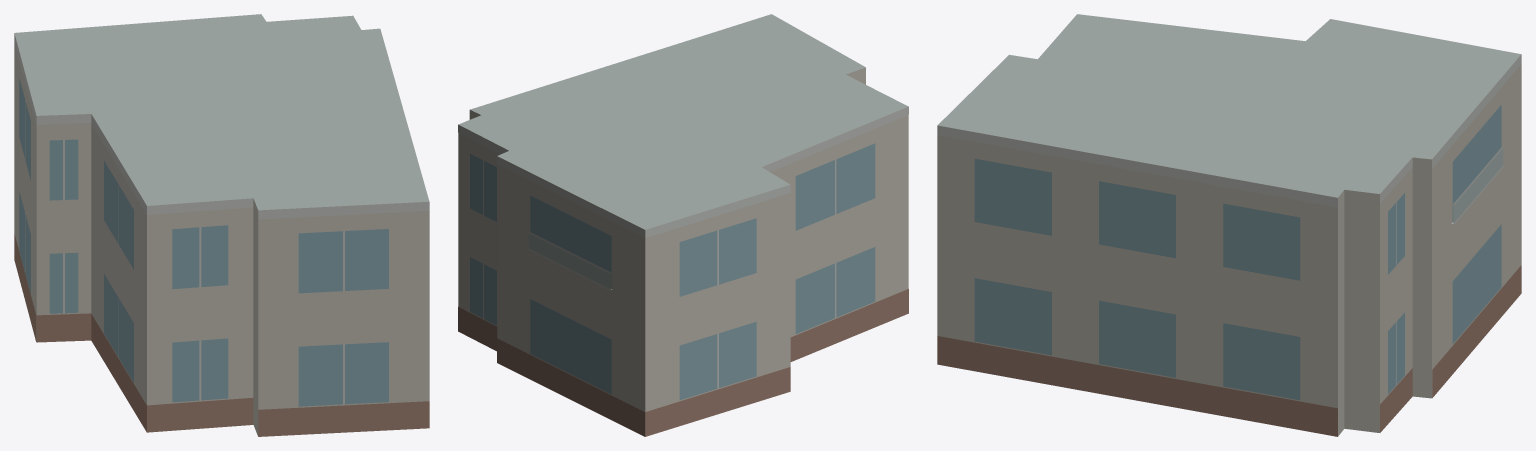
File: survey-upis-32531238.glb
3 renders of one model, left to right at view 1: azimuth 30°, elevation 25°; view 2: azimuth 150°, elevation 25°; view 3: azimuth 270°, elevation 25°, orthographic. The views are drawn at different scales.
Visible parts, largest first — view 1: survey-upis-32531238.tmp; view 2: survey-upis-32531238.tmp; view 3: survey-upis-32531238.tmp.
Boxes of the visible parts, <box> form: survey-upis-32531238.tmp: <box>14,14,429,436</box>; survey-upis-32531238.tmp: <box>458,14,908,436</box>; survey-upis-32531238.tmp: <box>937,14,1521,436</box>.
Bounding box in the file's own units: 10.07 × 6.1 × 13.52.
